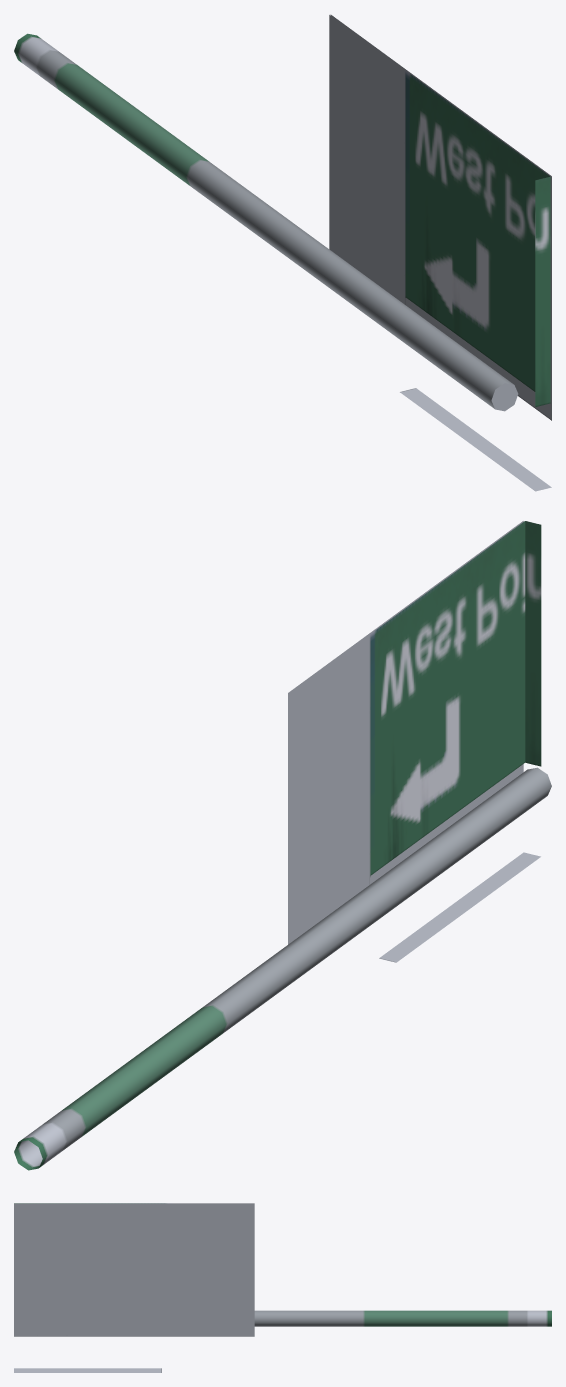
File: section-1.obj
3 renders of one model, top to bottom at view 1: azimuth 30°, elevation 25°; view 2: azimuth 150°, elevation 25°; view 3: azimuth 270°, elevation 25°, orthographic. The views are drawn at different scales.
Size of the model in its own units: 0.129 by 0.881 by 2.54.
